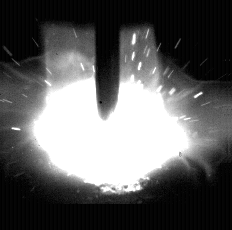arame: (96, 0, 122, 121)
poca: (29, 0, 190, 230)
